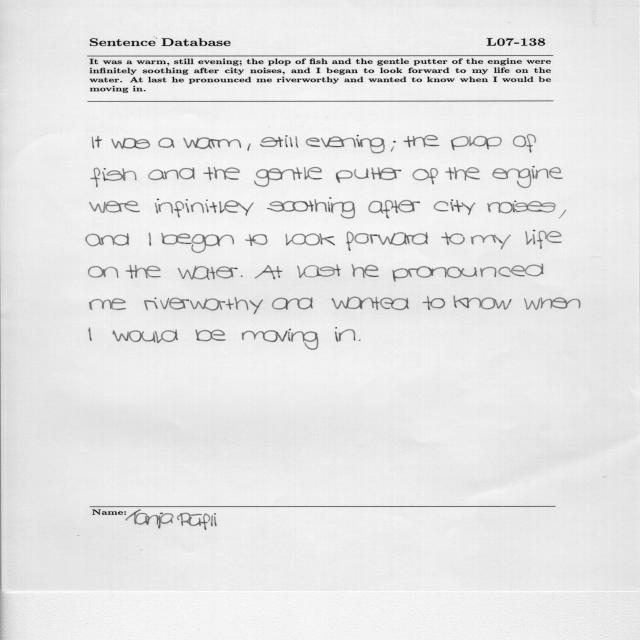word: (393, 264, 544, 282), (144, 297, 263, 314), (155, 199, 254, 218), (267, 198, 355, 219), (346, 231, 428, 251), (242, 329, 318, 350), (492, 166, 563, 188), (306, 135, 385, 154), (161, 233, 234, 253), (254, 167, 322, 187), (336, 167, 401, 183), (332, 297, 409, 310), (368, 200, 420, 218), (112, 329, 178, 343), (91, 168, 136, 188), (488, 201, 556, 214), (178, 266, 238, 280), (453, 296, 512, 310), (451, 136, 502, 151), (524, 297, 581, 310), (525, 230, 562, 249), (184, 137, 242, 149), (434, 200, 476, 216), (286, 233, 335, 246), (297, 264, 341, 278), (148, 168, 195, 181), (86, 233, 129, 247), (90, 201, 140, 213), (471, 235, 511, 249), (272, 297, 313, 310), (125, 265, 161, 279), (260, 135, 298, 148), (445, 167, 480, 181), (203, 167, 240, 180), (404, 135, 440, 147), (90, 298, 126, 310), (112, 138, 151, 149), (412, 168, 438, 184), (513, 135, 536, 153), (255, 265, 283, 279), (351, 264, 379, 278), (195, 330, 226, 342), (89, 266, 119, 278), (335, 327, 356, 342), (441, 232, 465, 245), (423, 296, 445, 310), (245, 234, 267, 246), (158, 137, 175, 148), (92, 136, 102, 149), (559, 210, 566, 219), (391, 141, 396, 152), (89, 327, 92, 341), (247, 143, 251, 151), (149, 232, 151, 246), (241, 275, 243, 277), (359, 339, 361, 341)
